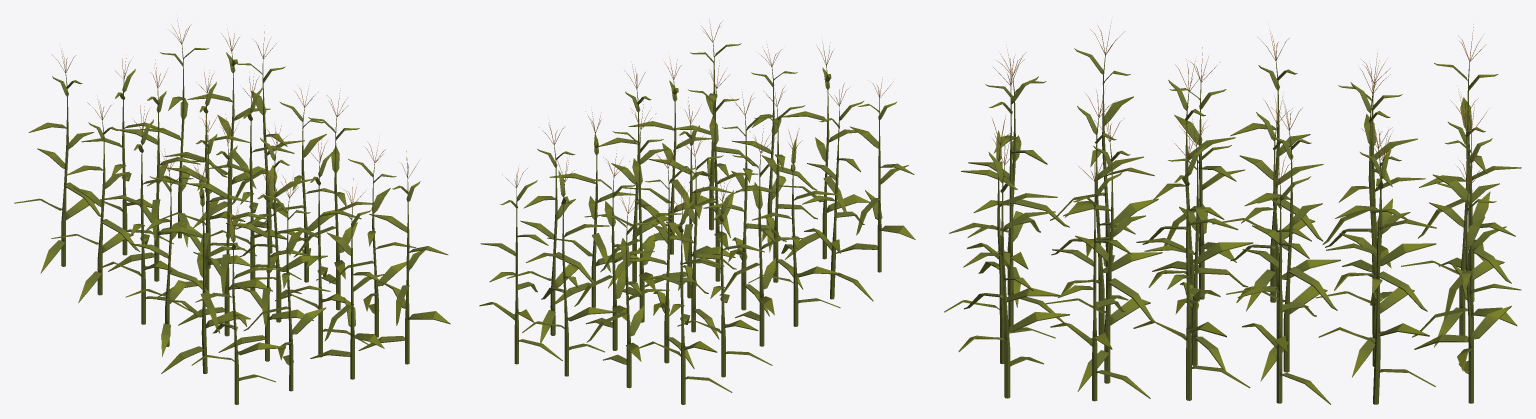
Rendered from FieldOfCorn.gltf.
The picture shows the model from 3 angles, left to right: view 1: azimuth 30°, elevation 25°; view 2: azimuth 150°, elevation 25°; view 3: azimuth 270°, elevation 25°; orthographic projection. The views are drawn at different scales.
Visible parts, largest first — view 1: node-0; view 2: node-0; view 3: node-0.
Part boxes in pixels (x1,y1,x2,y2): node-0: (14, 21, 450, 404); node-0: (479, 22, 915, 404); node-0: (944, 21, 1521, 404).
Size of the model in its own units: 15.73 by 13.52 by 24.11.
1 material, 1 textured.
